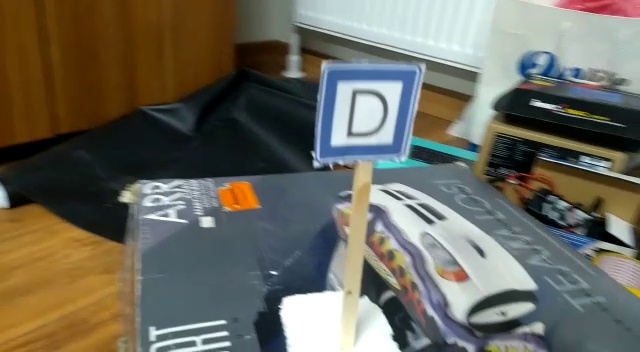durak: (304, 68, 415, 151)
